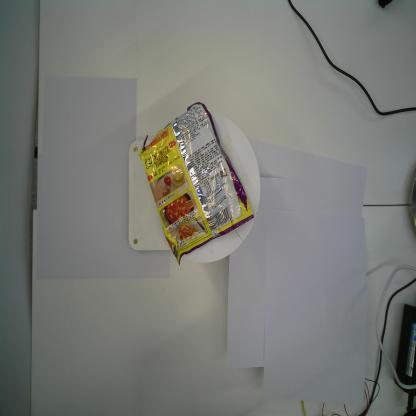Instant Noodles: (138, 101, 255, 268)
